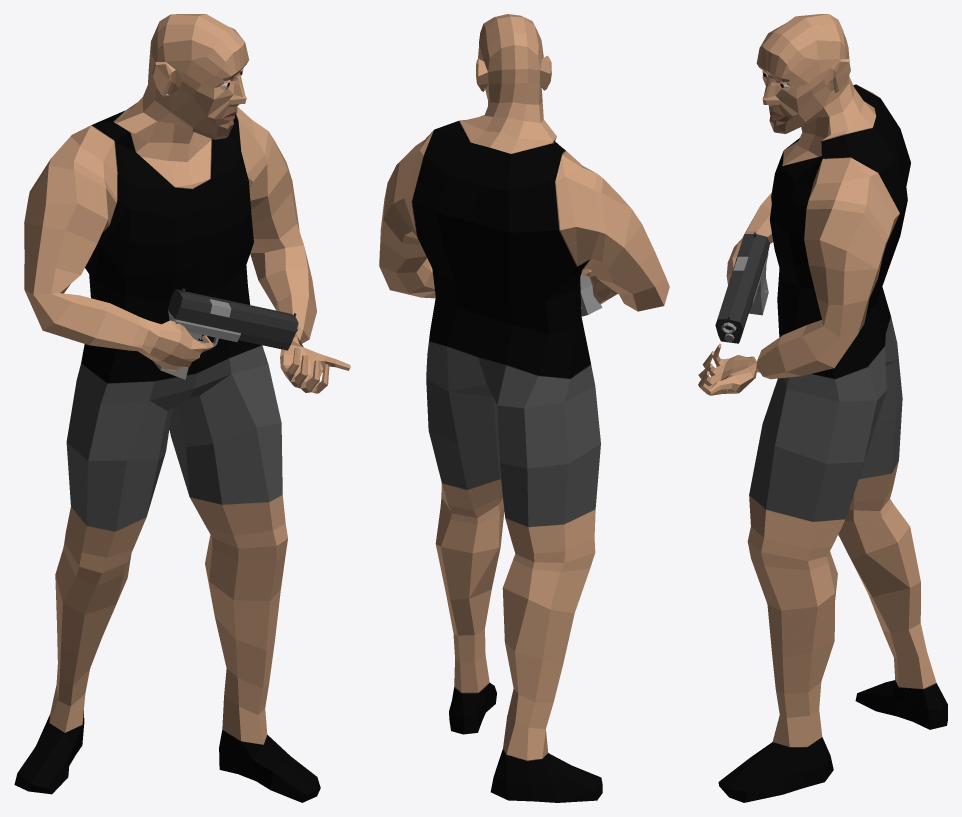
File: PlayerIdle(117).obj
3 renders of one model, left to right at view 1: azimuth 30°, elevation 25°; view 2: azimuth 150°, elevation 25°; view 3: azimuth 270°, elevation 25°, orthographic. The views are drawn at different scales.
Visible parts, largest first — view 1: Plane002, Box003; view 2: Plane002, Box003; view 3: Plane002, Box003.
Boxes of the visible parts, box(x1,y1,x2,y2) form: Plane002: box(14, 14, 350, 802); Box003: box(154, 288, 298, 379); Plane002: box(379, 14, 669, 802); Box003: box(580, 274, 602, 316); Plane002: box(698, 14, 947, 802); Box003: box(715, 232, 770, 343).
Size of the model in its own units: 701 by 1802 by 550.
